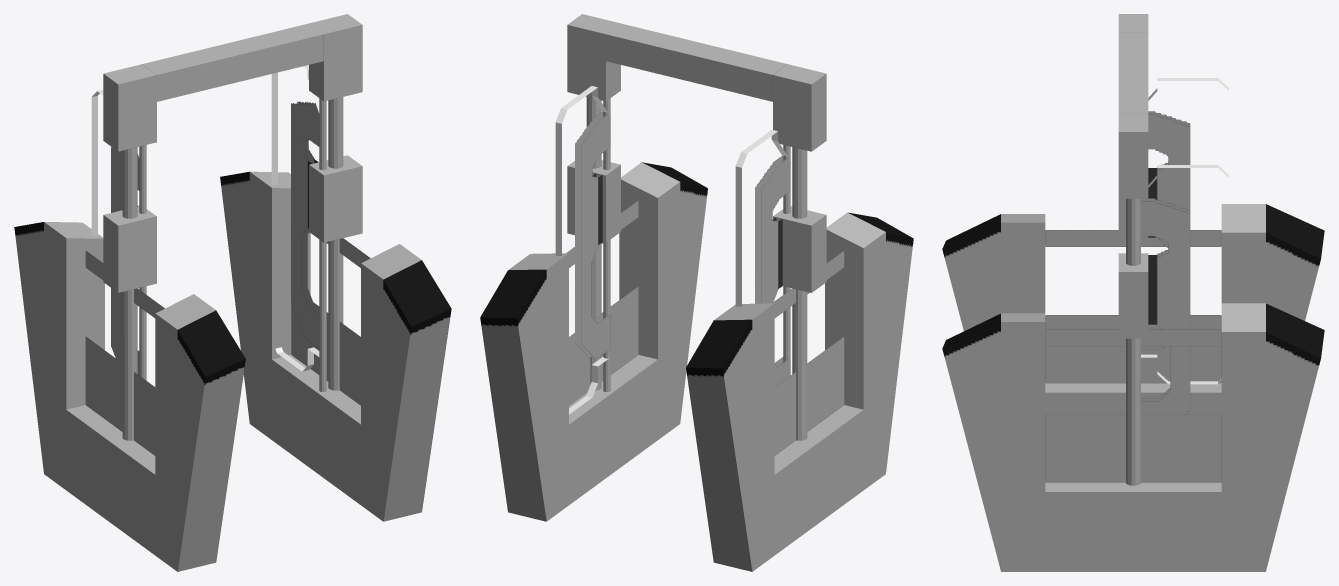
File: nyc_subway_fare_gate_6_twoway_open_entrance.obj
3 views of the same model, side by side, from view 1: azimuth 30°, elevation 25°; view 2: azimuth 150°, elevation 25°; view 3: azimuth 270°, elevation 25° (orthographic).
Visible parts, largest first — view 1: cube, left, right; view 2: cube, left, right; view 3: cube, right, left.
Part boxes in pixels (bbox=[...]): cube: bbox=[14, 65, 451, 571]; left: bbox=[66, 14, 362, 555]; right: bbox=[122, 97, 370, 504]; cube: bbox=[480, 86, 913, 571]; left: bbox=[567, 14, 863, 555]; right: bbox=[566, 97, 807, 504]; cube: bbox=[942, 78, 1324, 571]; right: bbox=[1045, 198, 1221, 571]; left: bbox=[1045, 14, 1221, 414].
Size of the model in its own units: 1.19 by 2.06 by 1.62.
Materials: 1 (1 with a texture image).
